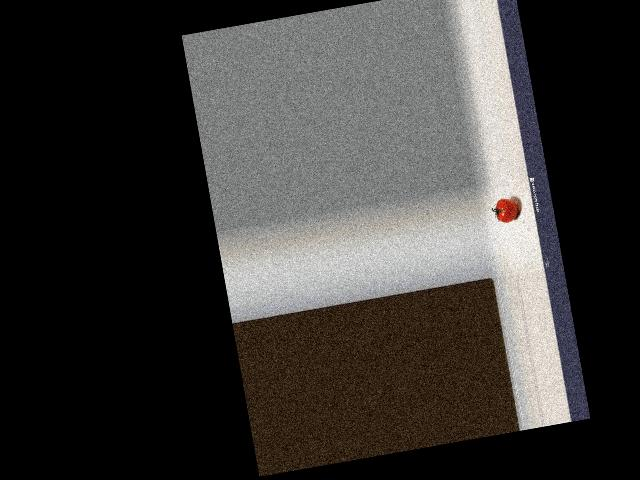tomato: (494, 197, 520, 224)
